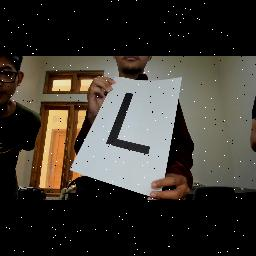l: (104, 86, 152, 166)
